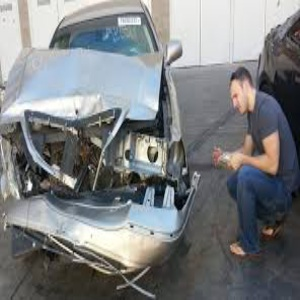bonnet: (16, 49, 161, 129)
bumper: (7, 191, 187, 278)
